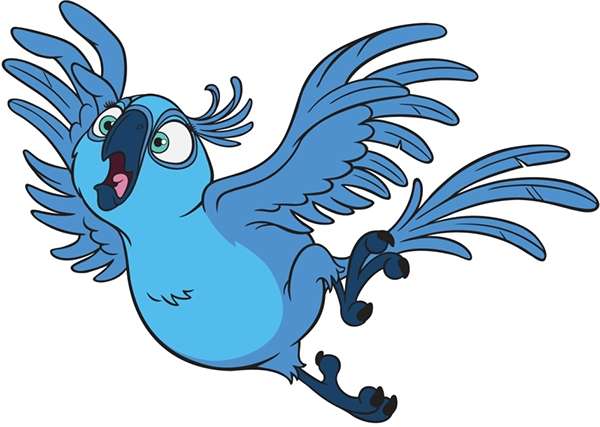bird: (6, 1, 600, 427)
